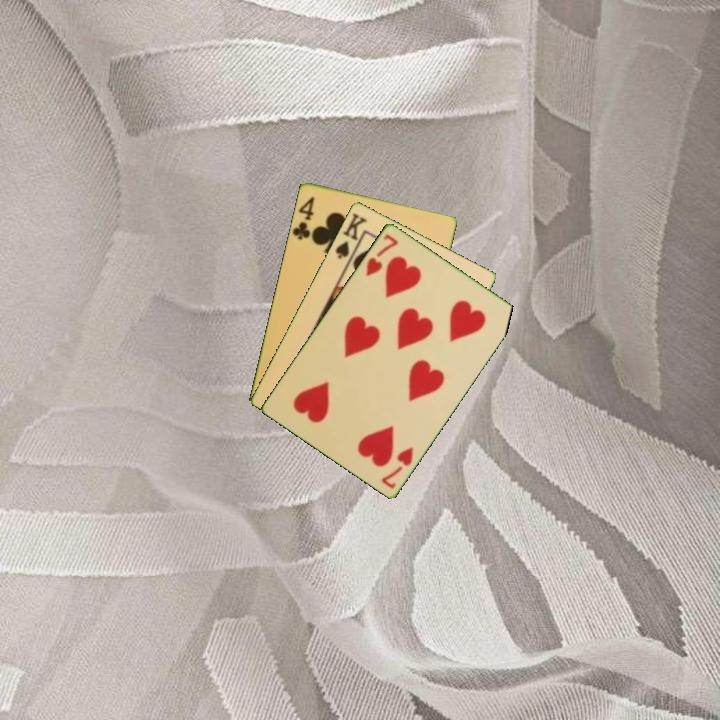4c: (289, 193, 317, 242)
7h: (362, 230, 401, 279), (377, 443, 416, 491)
Ks: (331, 209, 370, 261)
